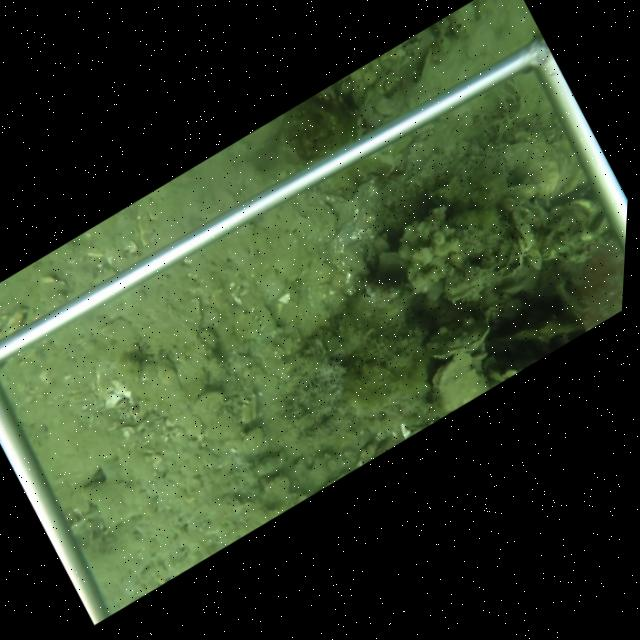Oyster-Closed: (428, 349, 496, 417), (500, 141, 565, 201), (420, 306, 492, 360), (414, 45, 432, 87)
Oyster-Open: (361, 276, 403, 304)
